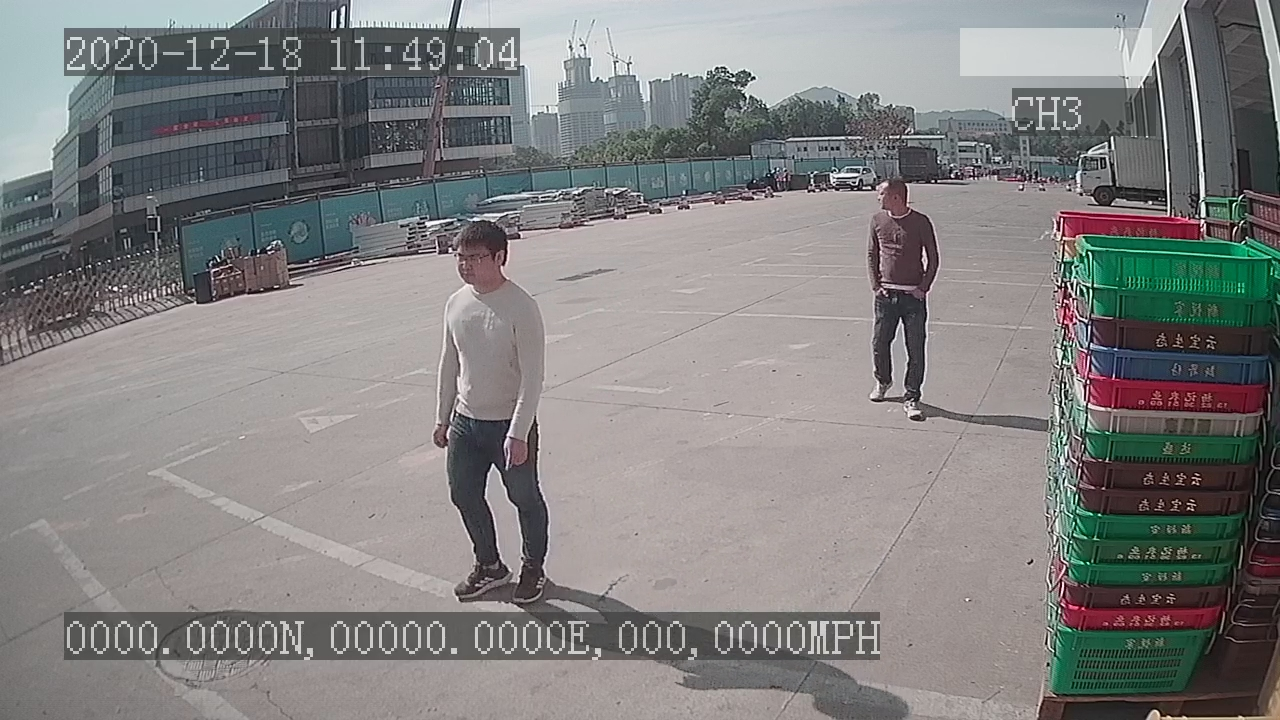person: (429, 217, 558, 610), (861, 174, 942, 426)
